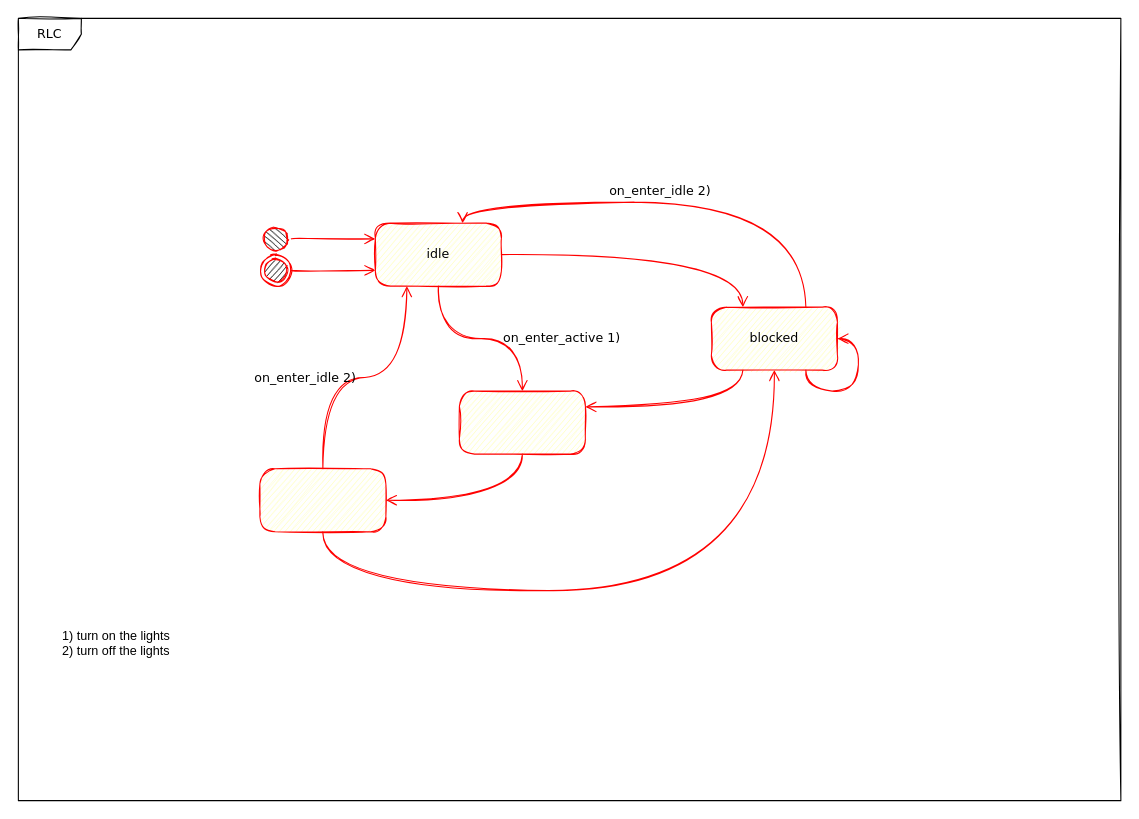
Image size: 1139x819. Some labels were removed from this diagram. The centre of each missing label's shape, as x and y in pixels:
active: point (521, 422)
active_control: point (322, 500)
